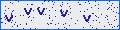v: (5, 14, 14, 24), (36, 7, 46, 16), (82, 14, 92, 23), (59, 9, 68, 18), (24, 7, 32, 16)
